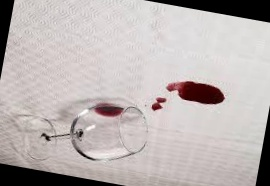wine: (150, 70, 235, 118), (150, 96, 168, 118)
